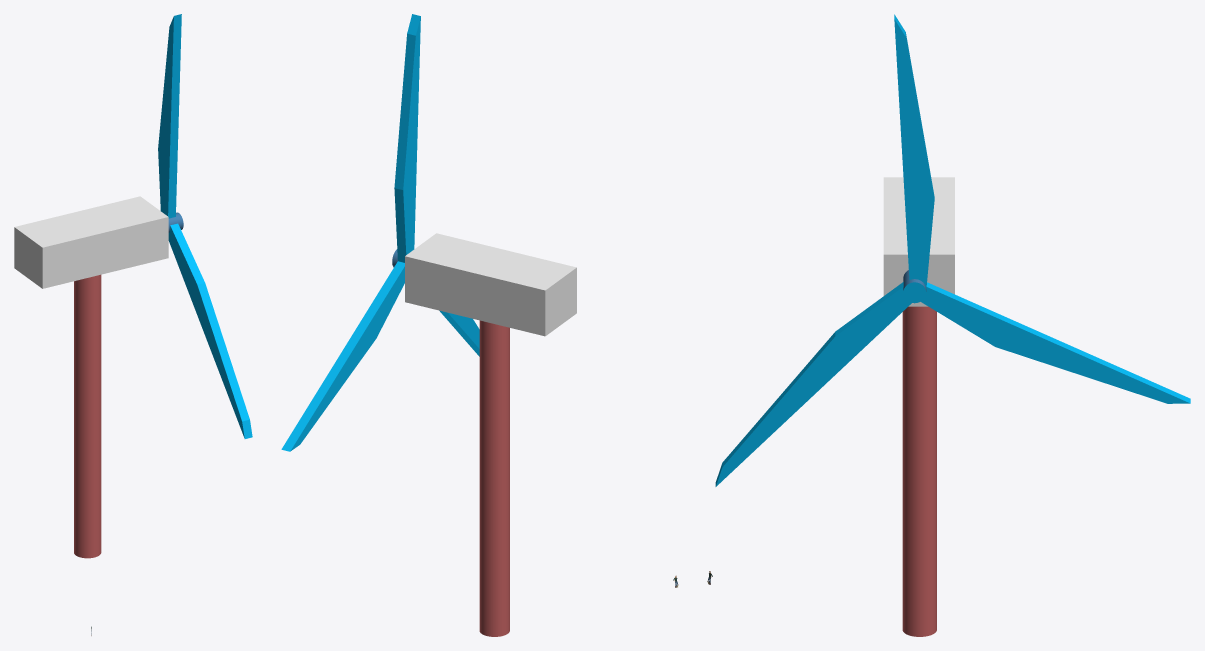
The model's file is asset.glb.
3 renders of one model, left to right at view 1: azimuth 30°, elevation 25°; view 2: azimuth 150°, elevation 25°; view 3: azimuth 270°, elevation 25°, orthographic. The views are drawn at different scales.
Parts seen in each view (by area): view 1: 140_ft_tall_Wind_Turbine_7978 - 140_ft_tall_Wind_Turbine_797; view 2: 140_ft_tall_Wind_Turbine_7978 - 140_ft_tall_Wind_Turbine_797; view 3: 140_ft_tall_Wind_Turbine_7978 - 140_ft_tall_Wind_Turbine_797.
Part boxes in pixels (x1,y1,x2,y2): 140_ft_tall_Wind_Turbine_7978 - 140_ft_tall_Wind_Turbine_797: (14,14,252,558); 140_ft_tall_Wind_Turbine_7978 - 140_ft_tall_Wind_Turbine_797: (281,14,576,636); 140_ft_tall_Wind_Turbine_7978 - 140_ft_tall_Wind_Turbine_797: (715,14,1190,636).
Bounding box in the file's own units: 26.37 × 78.18 × 51.35.
